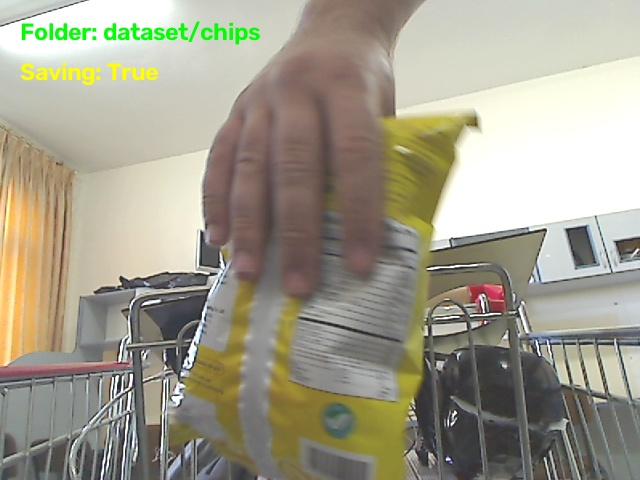chips: (171, 113, 476, 479)
